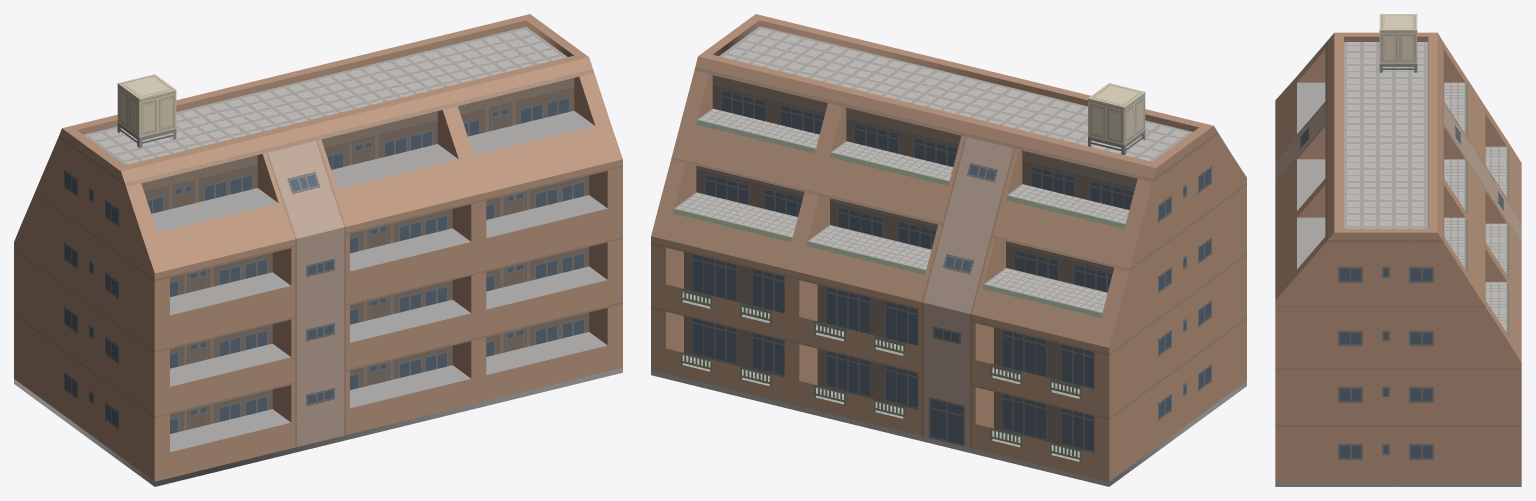
The model's file is 026a_Apartment_Building.glb.
The picture shows the model from 3 angles, left to right: view 1: azimuth 30°, elevation 25°; view 2: azimuth 150°, elevation 25°; view 3: azimuth 270°, elevation 25°; orthographic projection. The views are drawn at different scales.
Parts seen in each view (by area): view 1: part_0; view 2: part_0; view 3: part_0.
Boxes of the visible parts, x1,y1,x2,y2 form: part_0: (14,14,622,486); part_0: (651,14,1246,486); part_0: (1275,14,1521,486).
Bounding box in the file's own units: 18.88 × 12.86 × 9.83.
1 material, 1 textured.
